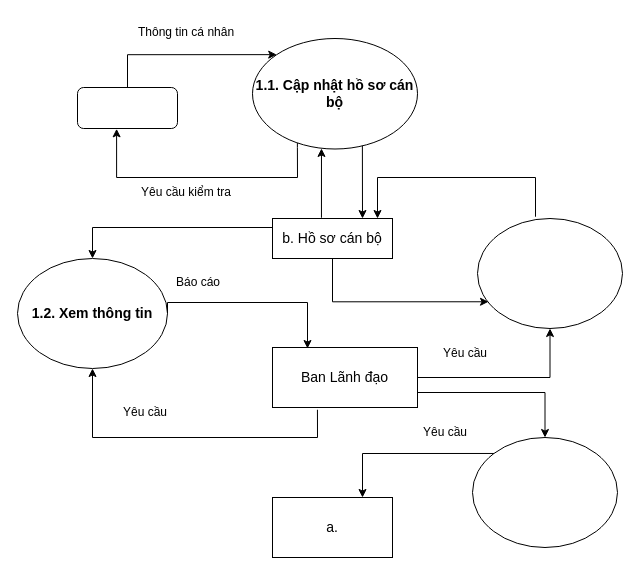
The diagram is 640 pixels wide and 575 high, and some of its shapes have lost their labels. The shapes that lost their labels are listed below. From the top down, each one's centre as x and y in pixels, then its label:
At point 127,107: "Cán bộ".
At point 549,273: "1.3. Điều chỉnh thông tin".
At point 545,492: "1.4. Hủy bỏ thông tin".
